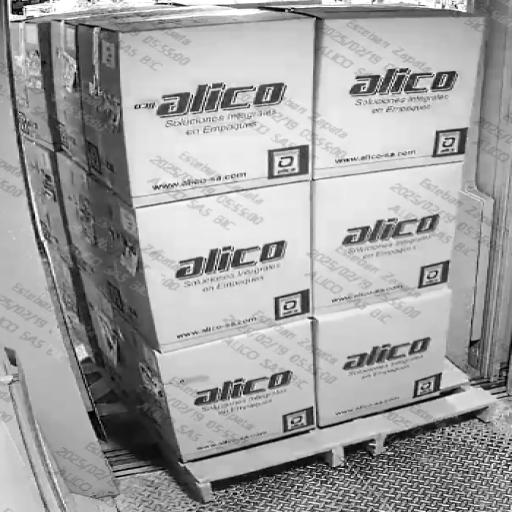Caja no amarrada: (223, 9, 391, 334)
